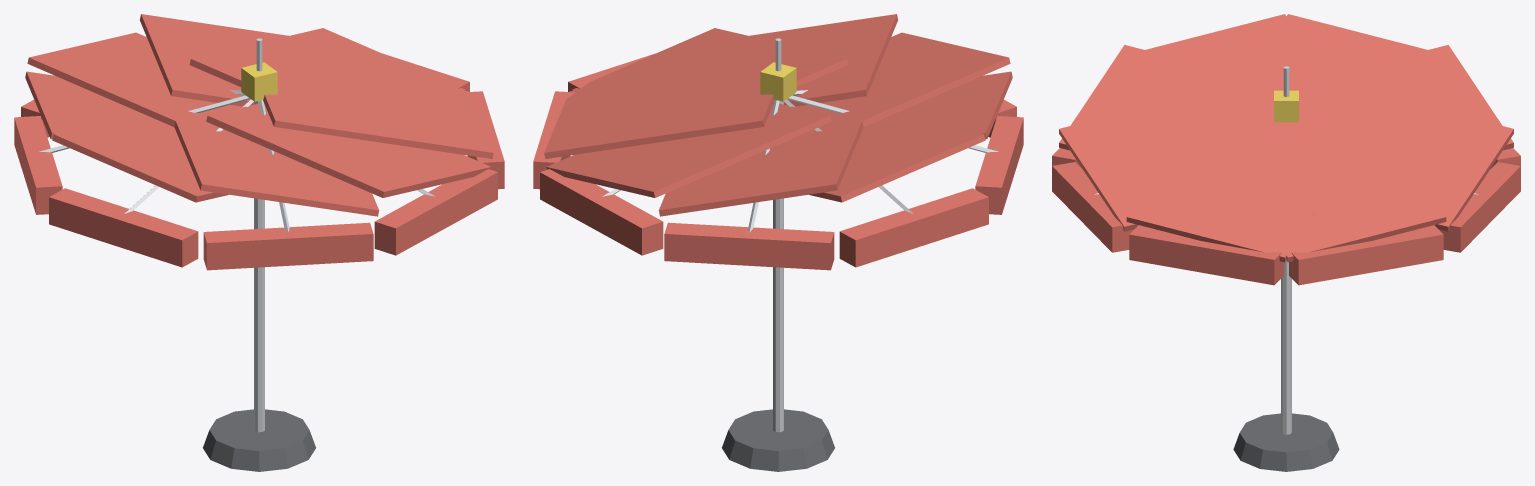
The model's file is parasol.glb.
The picture shows the model from 3 angles, left to right: view 1: azimuth 30°, elevation 25°; view 2: azimuth 150°, elevation 25°; view 3: azimuth 270°, elevation 25°; orthographic projection. The views are drawn at different scales.
Parts seen in each view (by area): view 1: market-parasol-scarlet, market-parasol-charcoal, market-parasol-steel, market-parasol-canary; view 2: market-parasol-scarlet, market-parasol-charcoal, market-parasol-steel, market-parasol-canary; view 3: market-parasol-scarlet, market-parasol-charcoal, market-parasol-steel, market-parasol-canary.
Boxes of the visible parts, box(x1,y1,x2,y2) form: market-parasol-scarlet: box(14, 14, 504, 270); market-parasol-charcoal: box(203, 409, 315, 471); market-parasol-steel: box(39, 38, 435, 432); market-parasol-canary: box(241, 62, 277, 101); market-parasol-scarlet: box(533, 14, 1023, 270); market-parasol-charcoal: box(722, 409, 834, 471); market-parasol-steel: box(602, 38, 998, 432); market-parasol-canary: box(760, 62, 796, 101); market-parasol-scarlet: box(1052, 14, 1520, 285); market-parasol-charcoal: box(1233, 413, 1339, 471); market-parasol-steel: box(1094, 66, 1478, 434); market-parasol-canary: box(1274, 90, 1298, 122).
Size of the model in its own units: 3 by 2.7 by 3.
